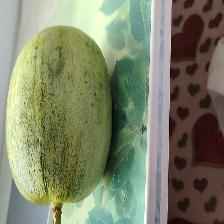gua: (20, 36, 102, 200)
